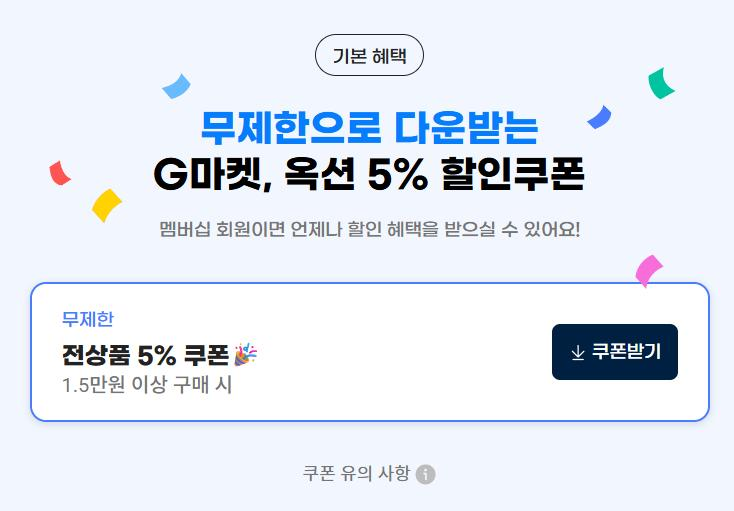button: (553, 326, 674, 379)
